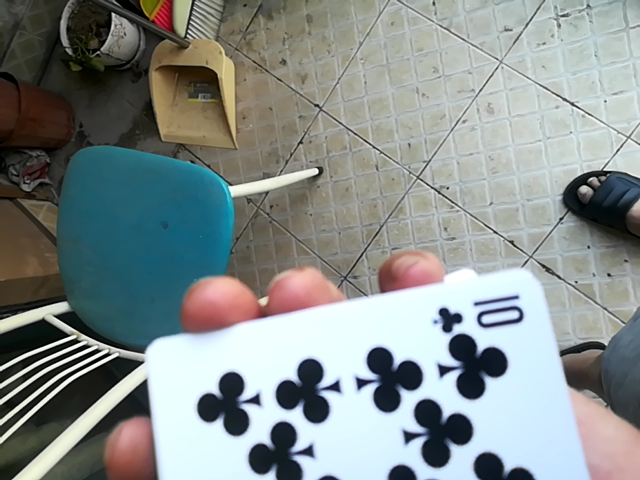mh 10: (120, 263, 624, 480)
